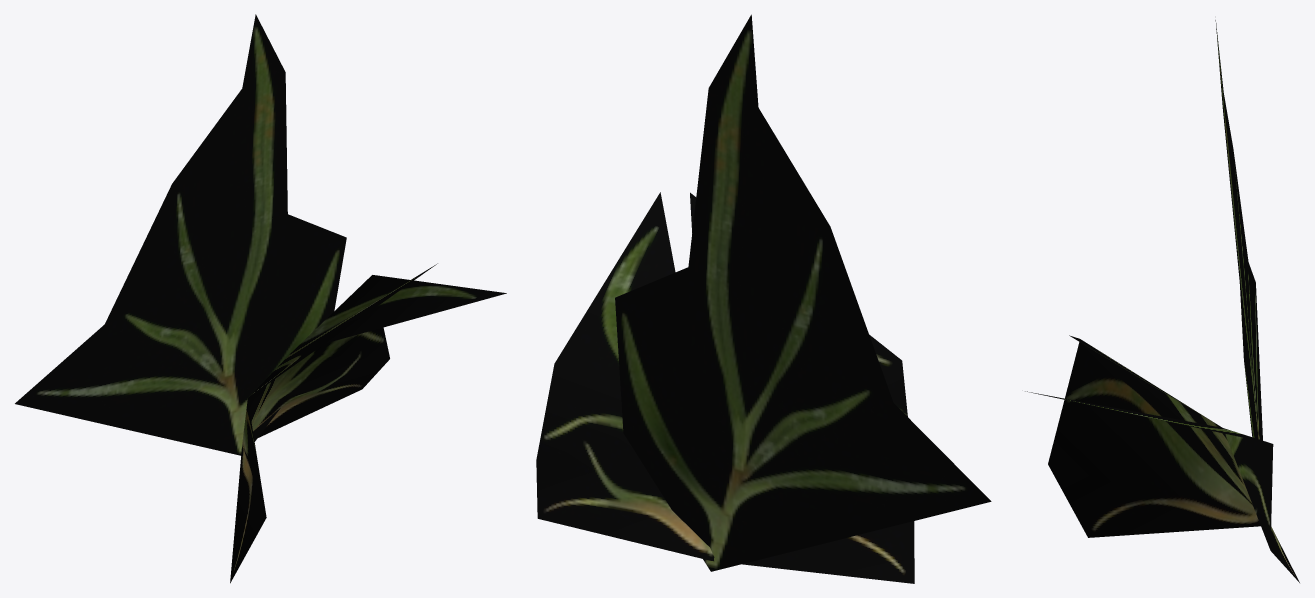
The model's file is grass_bermuda_01_7.glb.
The picture shows the model from 3 angles, left to right: view 1: azimuth 30°, elevation 25°; view 2: azimuth 150°, elevation 25°; view 3: azimuth 270°, elevation 25°; orthographic projection. The views are drawn at different scales.
Parts seen in each view (by area): view 1: grass_bermuda_01_medium_e; view 2: grass_bermuda_01_medium_e; view 3: grass_bermuda_01_medium_e.
Part boxes in pixels (x1,y1,x2,y2): grass_bermuda_01_medium_e: (15,14,506,583); grass_bermuda_01_medium_e: (536,14,991,583); grass_bermuda_01_medium_e: (1025,20,1299,582).
Bounding box in the file's own units: 0.066 × 0.0827 × 0.0369.
1 material, 1 textured.
